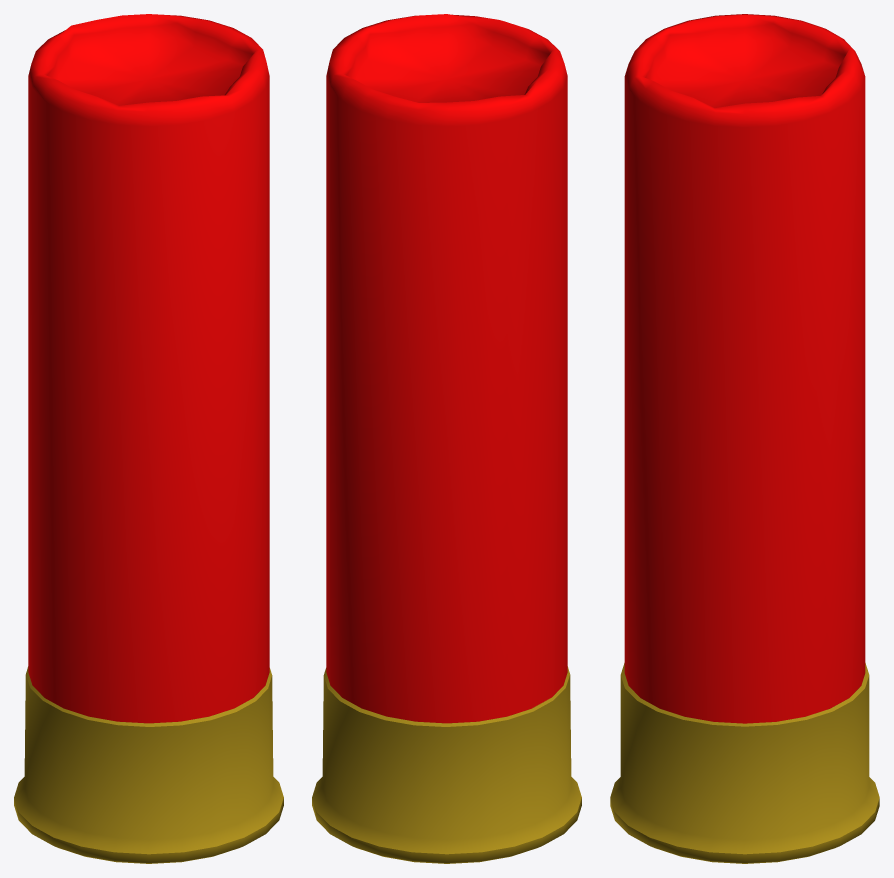
The model's file is shell.fbx.
3 views of the same model, side by side, from view 1: azimuth 30°, elevation 25°; view 2: azimuth 150°, elevation 25°; view 3: azimuth 270°, elevation 25° (orthographic).
Visible parts, largest first — view 1: Object001; view 2: Object001; view 3: Object001.
Boxes of the visible parts, x1=… form: Object001: x1=14, y1=14, x2=283, y2=863; Object001: x1=312, y1=14, x2=581, y2=863; Object001: x1=610, y1=14, x2=879, y2=863.
Bounding box in the file's own units: 14.15 × 43.5 × 14.15.
